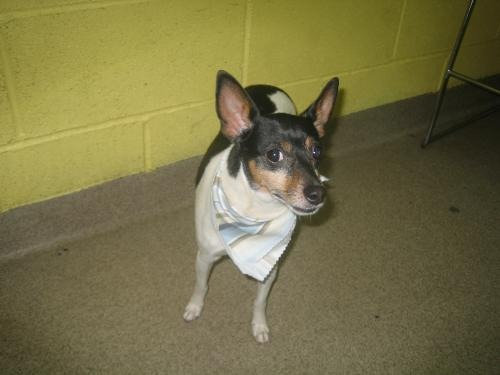dog: (184, 76, 342, 347)
